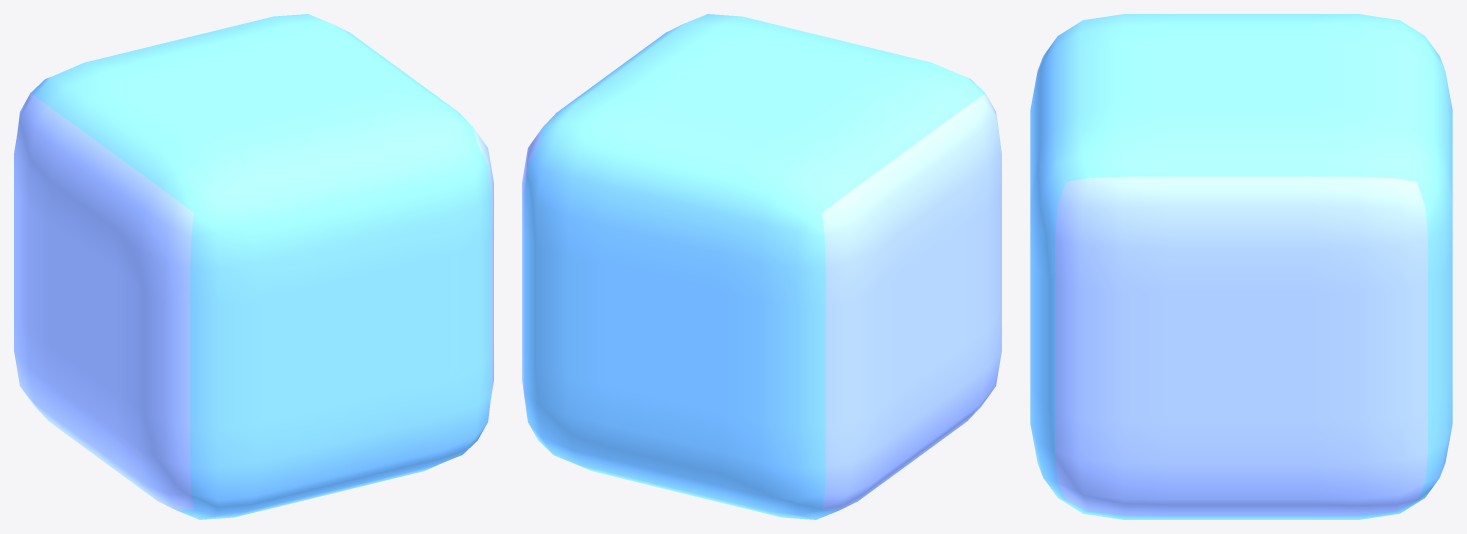
3 renders of one model, left to right at view 1: azimuth 30°, elevation 25°; view 2: azimuth 150°, elevation 25°; view 3: azimuth 270°, elevation 25°, orthographic. The views are drawn at different scales.
Parts seen in each view (by area): view 1: RoundCube-whole fitted to whole; view 2: RoundCube-whole fitted to whole; view 3: RoundCube-whole fitted to whole.
Boxes of the visible parts, <box> form: RoundCube-whole fitted to whole: <box>14,14,493,519</box>; RoundCube-whole fitted to whole: <box>522,14,1001,519</box>; RoundCube-whole fitted to whole: <box>1030,14,1452,519</box>.
Bounding box in the file's own units: 0.0221 × 0.0221 × 0.0221.
